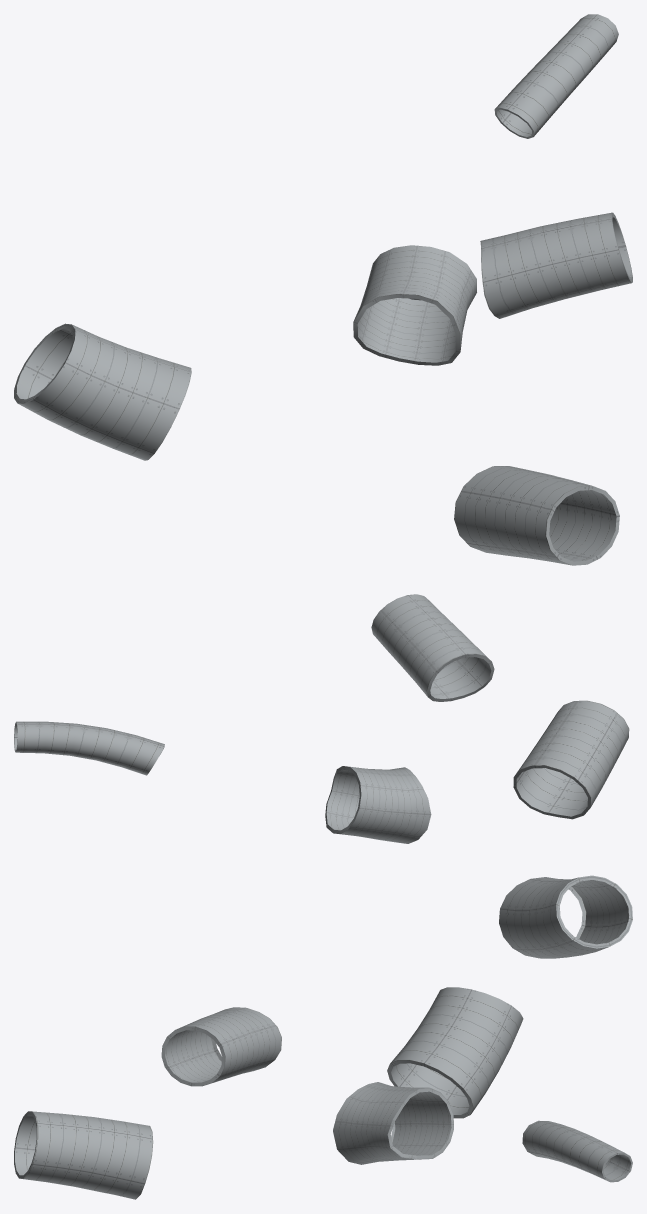
Rendered from field_spring_tree_outside2.fbx.
3 views of the same model, one above another, from view 1: azimuth 30°, elevation 25°; view 2: azimuth 150°, elevation 25°; view 3: azimuth 270°, elevation 25° (orthographic). The views are drawn at different scales.
Visible parts, largest first — view 1: field_spring_tree_outside2; view 2: field_spring_tree_outside2; view 3: field_spring_tree_outside2.
Part boxes in pixels (x1,y1,x2,y2): field_spring_tree_outside2: [14, 14, 632, 565]; field_spring_tree_outside2: [14, 594, 632, 958]; field_spring_tree_outside2: [14, 987, 632, 1199].
Bounding box in the file's own units: 1710 × 644 × 1596.
1 material, 1 textured.
